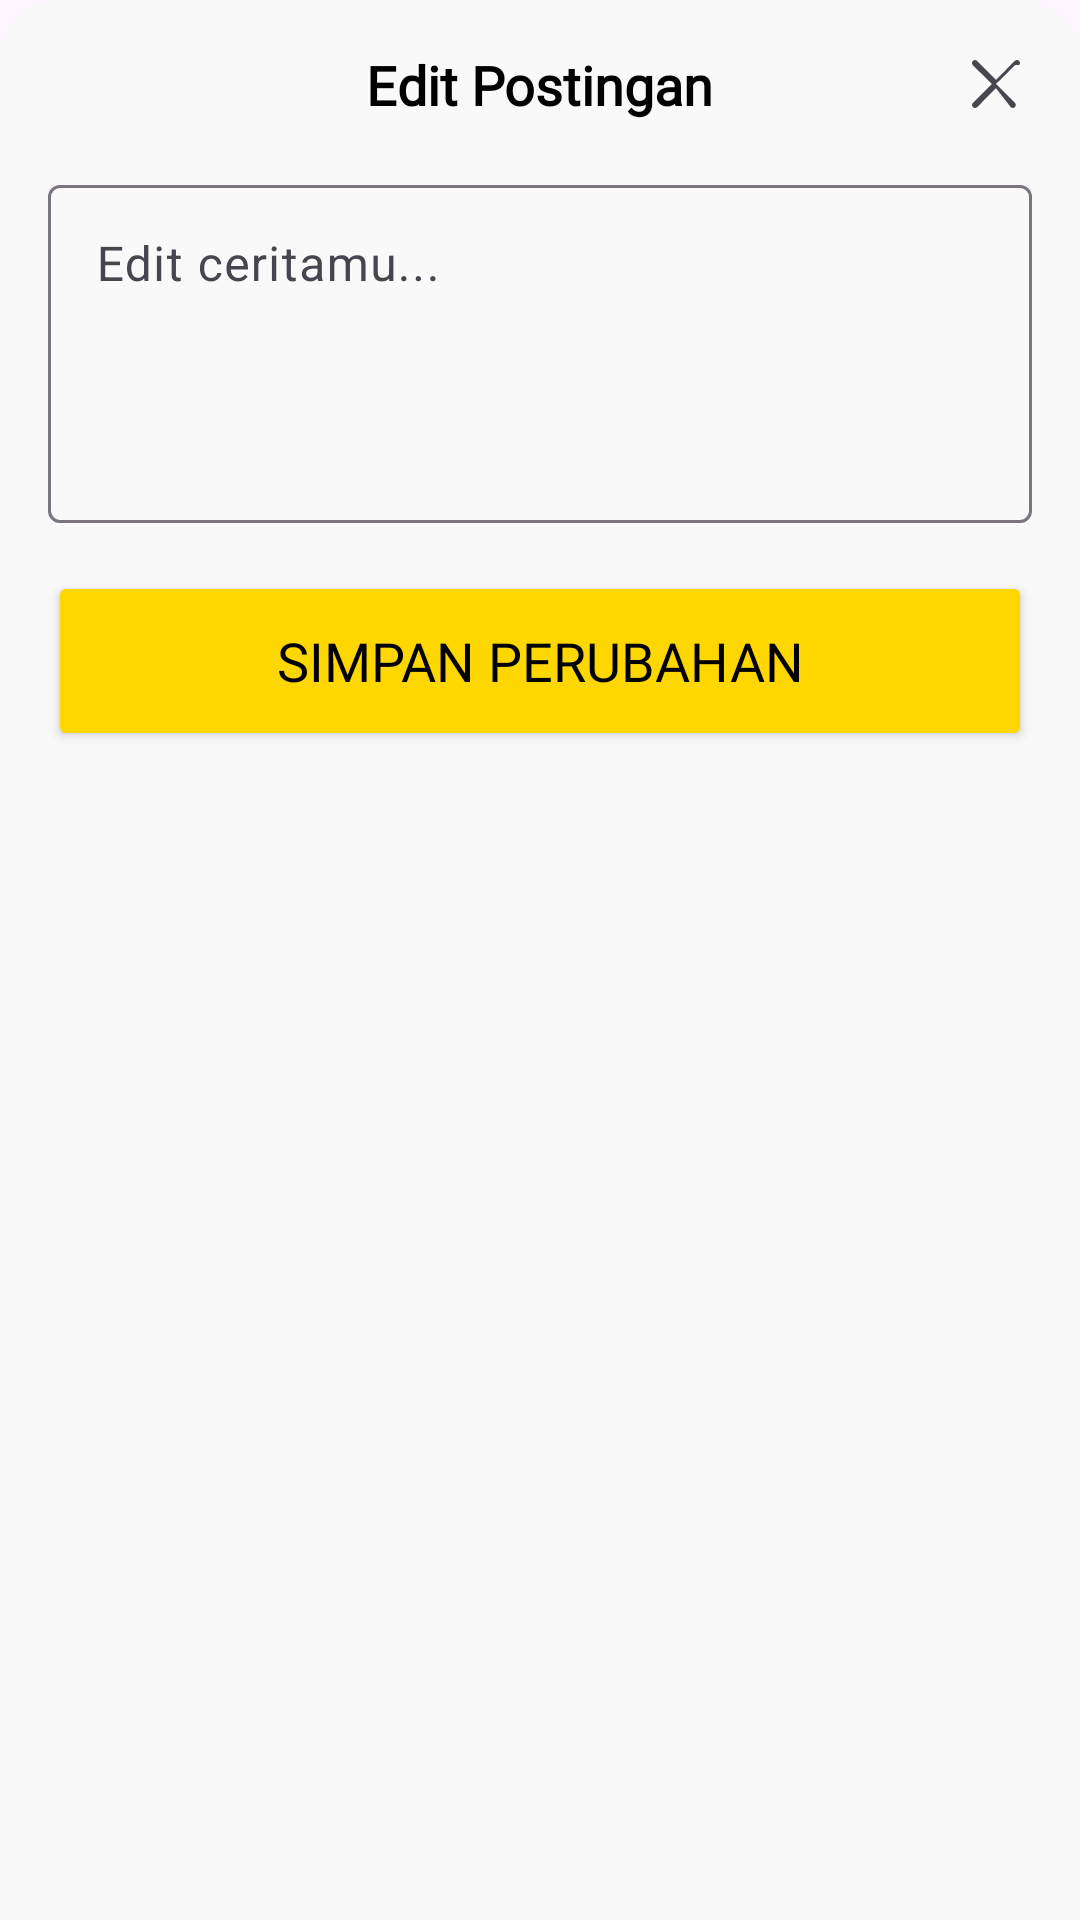

Screen size 1080×1920. Icon name, then its center in pixels as [x,y]:
Tutup: [996,84]
